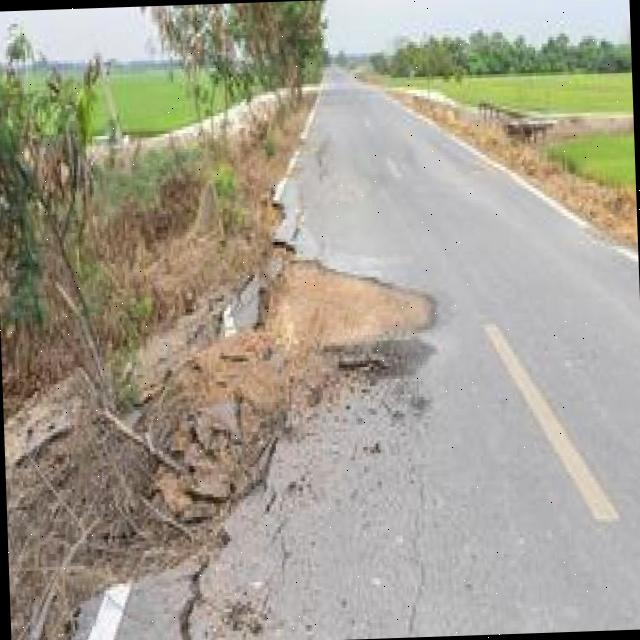road collapse: (36, 125, 531, 640)
